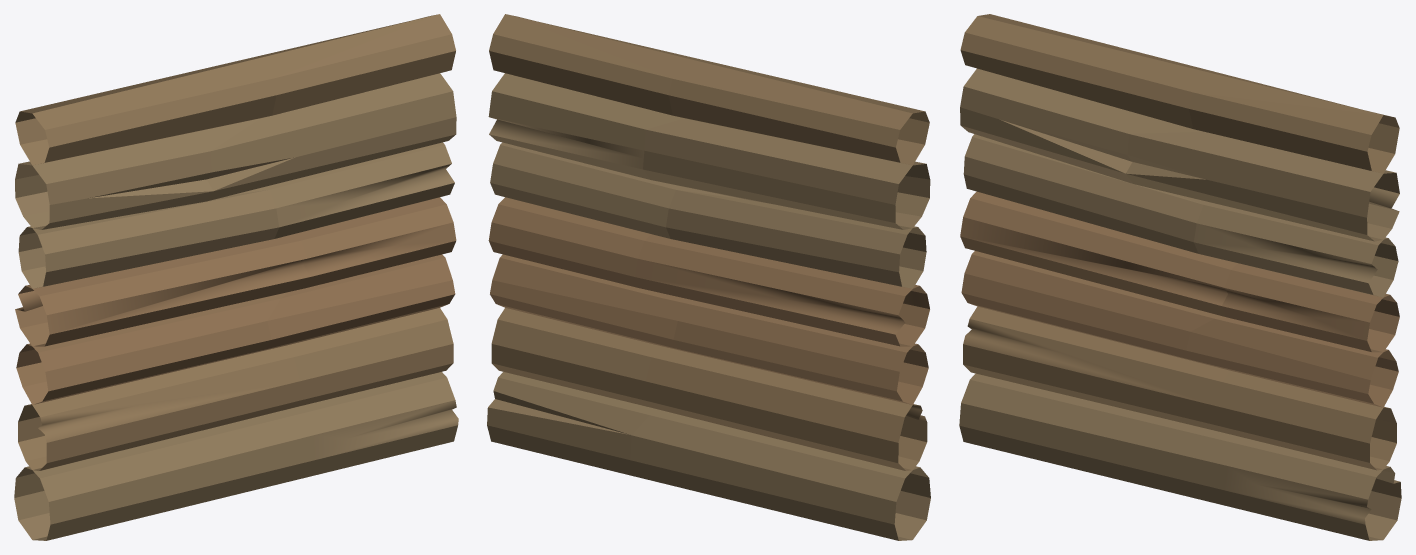
The model's file is rpgpp_ag_wall_01_3x3_b.fbx.
3 views of the same model, side by side, from view 1: azimuth 30°, elevation 25°; view 2: azimuth 150°, elevation 25°; view 3: azimuth 330°, elevation 25° (orthographic).
Parts seen in each view (by area): view 1: rpgpp_ag_wall_01_3x3_b; view 2: rpgpp_ag_wall_01_3x3_b; view 3: rpgpp_ag_wall_01_3x3_b.
Boxes of the visible parts, left/top/right/bottom form: rpgpp_ag_wall_01_3x3_b: left=14, top=14, right=458, bottom=540; rpgpp_ag_wall_01_3x3_b: left=487, top=14, right=930, bottom=540; rpgpp_ag_wall_01_3x3_b: left=959, top=14, right=1401, bottom=540.
Size of the model in its own units: 3 by 3 by 0.4706.
